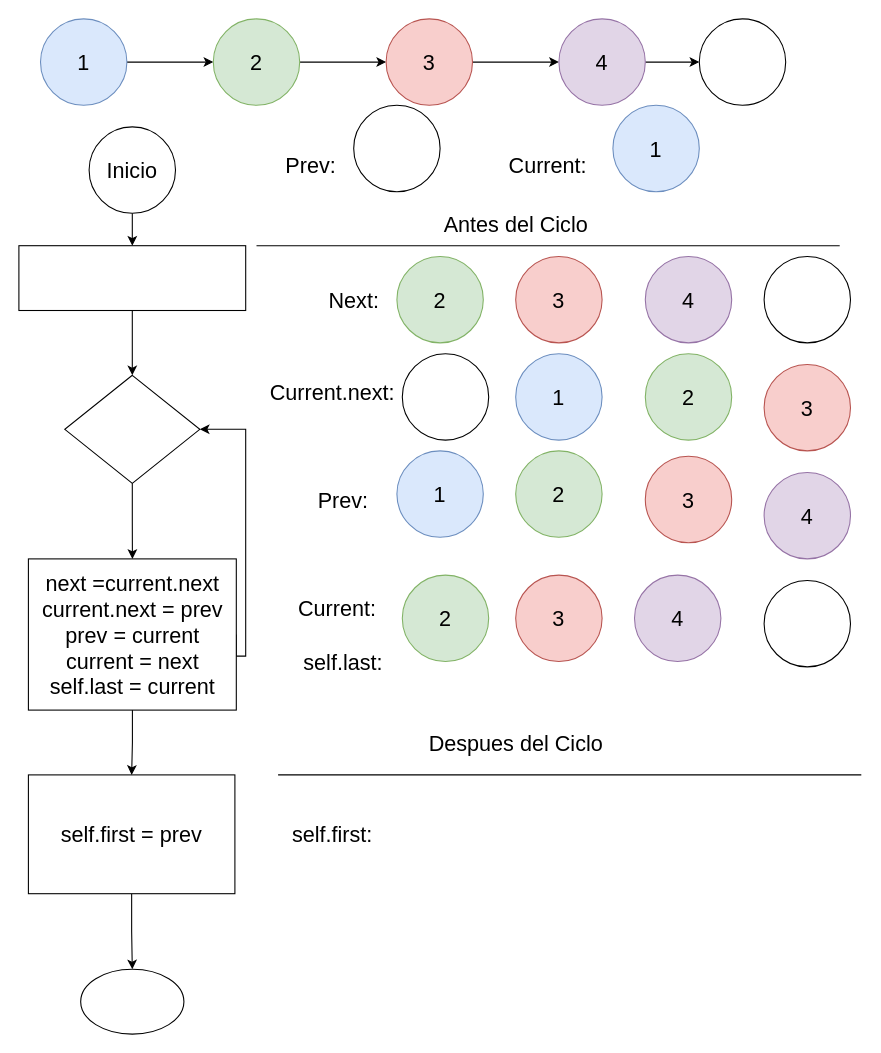
Some shapes in this 881 by 1053 pixel diagram are drawn without their labels. The centre of each missing label's shape, as x and y in pixels:
current: point (132, 428)
FIN: point (132, 1001)
prev = None current = self.first: point (132, 277)
